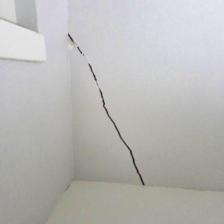Medium: (64, 29, 163, 185)
